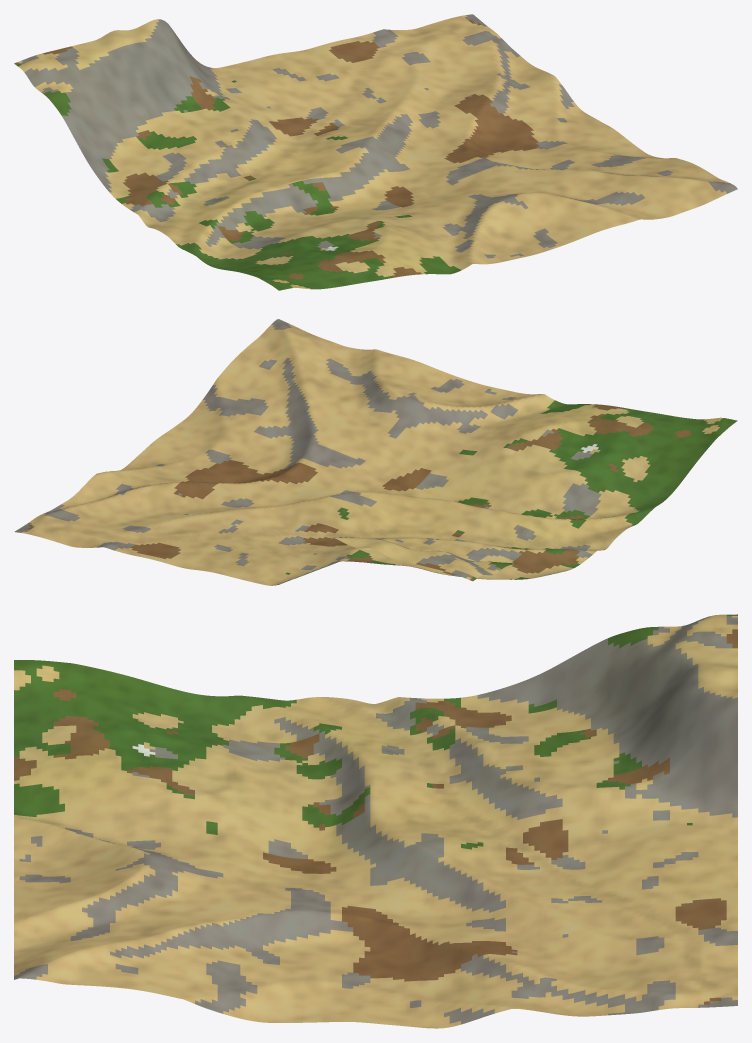
The model's file is chunk_6_7.glb.
3 views of the same model, one above another, from view 1: azimuth 30°, elevation 25°; view 2: azimuth 150°, elevation 25°; view 3: azimuth 270°, elevation 25° (orthographic). The views are drawn at different scales.
Visible parts, largest first — view 1: Surface_Sand, Surface_Gravel, Surface_Grass, Surface_Dirt; view 2: Surface_Sand, Surface_Gravel, Surface_Grass, Surface_Dirt; view 3: Surface_Sand, Surface_Gravel, Surface_Grass, Surface_Dirt.
Boxes of the visible parts, box(x1,y1,x2,y2) form: Surface_Sand: box(18, 15, 728, 289); Surface_Gravel: box(20, 14, 737, 258); Surface_Grass: box(16, 63, 461, 290); Surface_Dirt: box(14, 20, 539, 279); Surface_Sand: box(21, 324, 722, 585); Surface_Gravel: box(14, 319, 615, 584); Surface_Grass: box(285, 400, 737, 579); Surface_Dirt: box(28, 404, 692, 581); Surface_Sand: box(14, 614, 737, 1028); Surface_Gravel: box(14, 615, 737, 1024); Surface_Grass: box(14, 614, 732, 849); Surface_Dirt: box(14, 614, 737, 1004).
Size of the model in its own units: 256 by 47.23 by 256.
